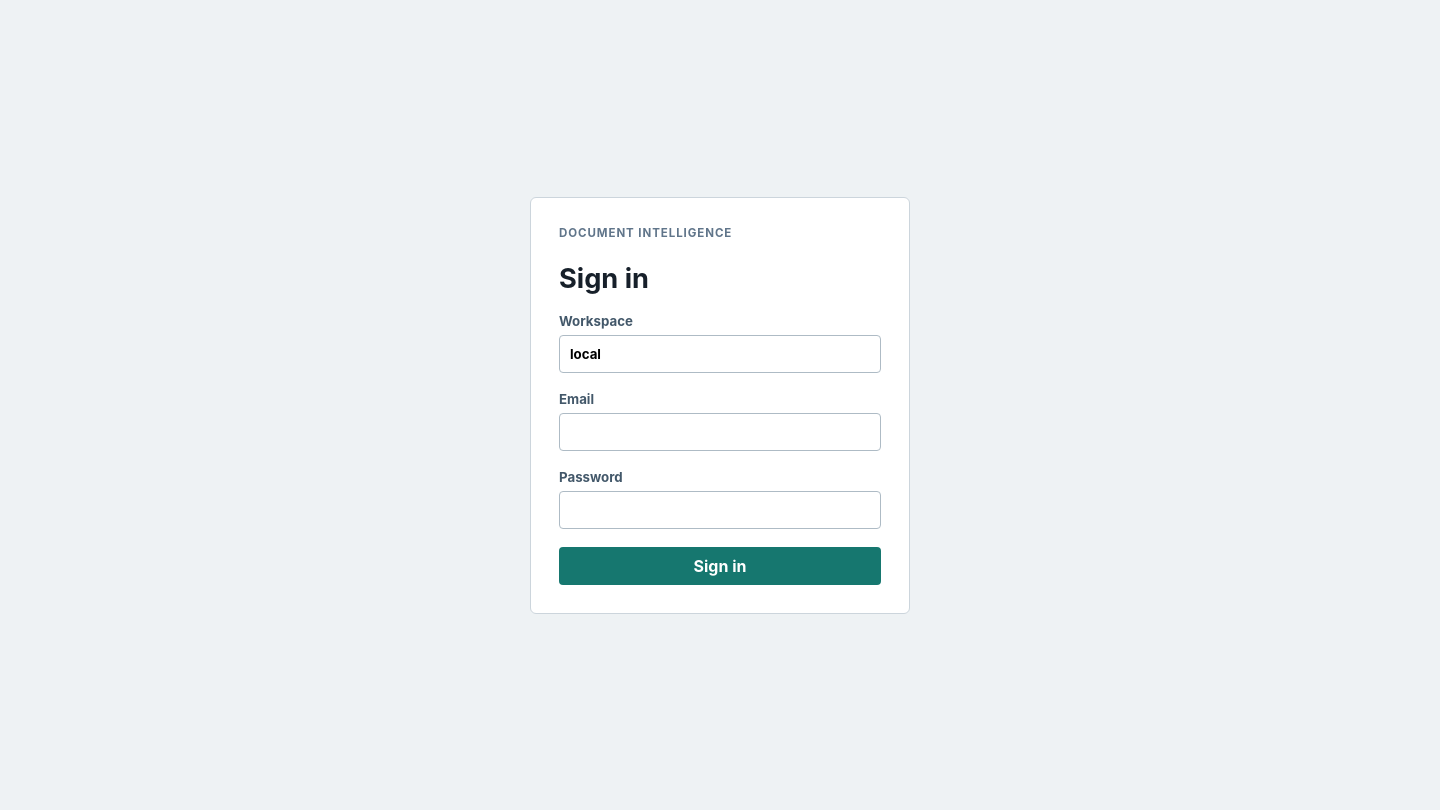
Scenario: authentication and role controls › signs in and sends the user to the tenant workspace
Replace the text in the field labelled "Workspace" with "review": (720, 354) [559,334,881,372]
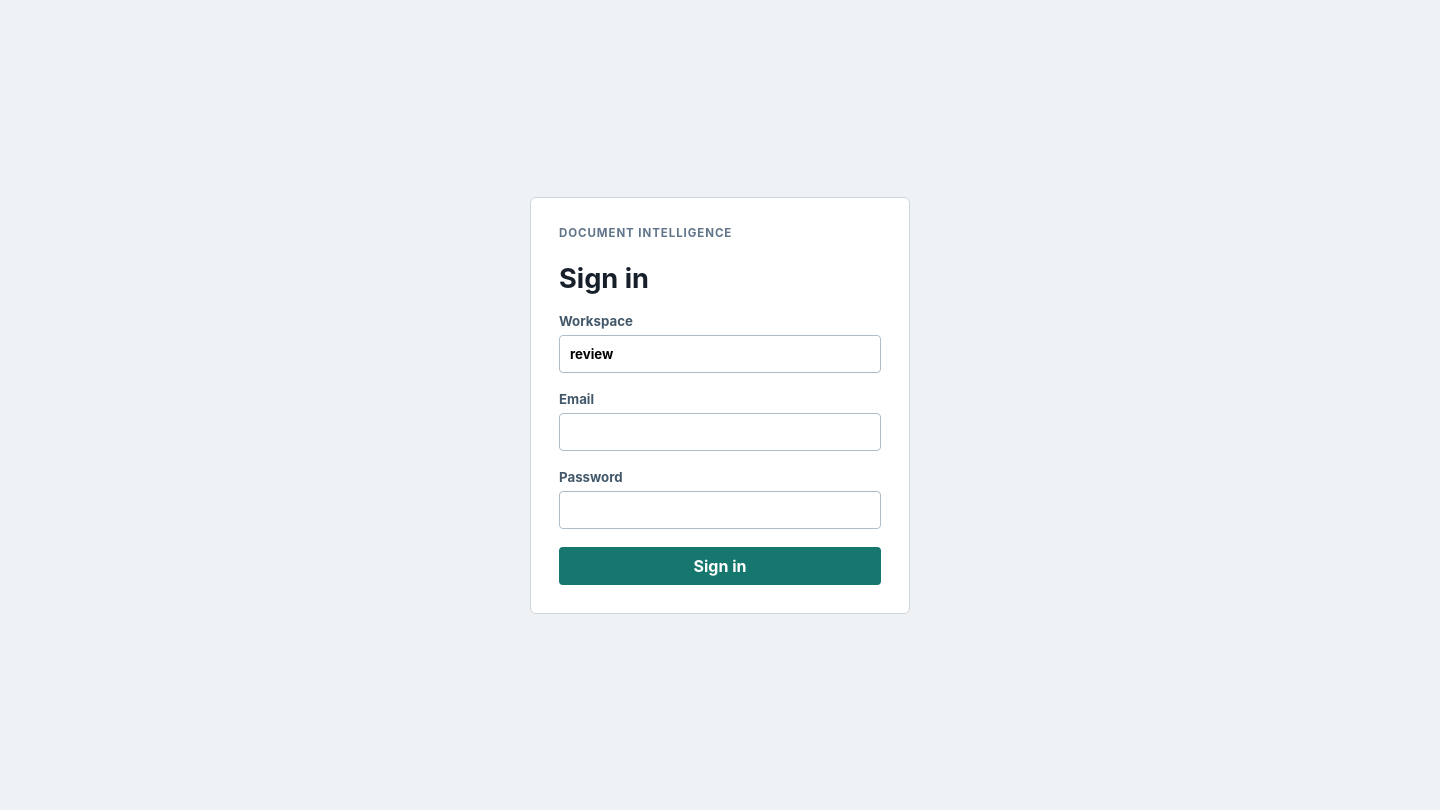
In the field labelled "Email": (720, 432) [559,412,881,450], type "reviewer@example.test"
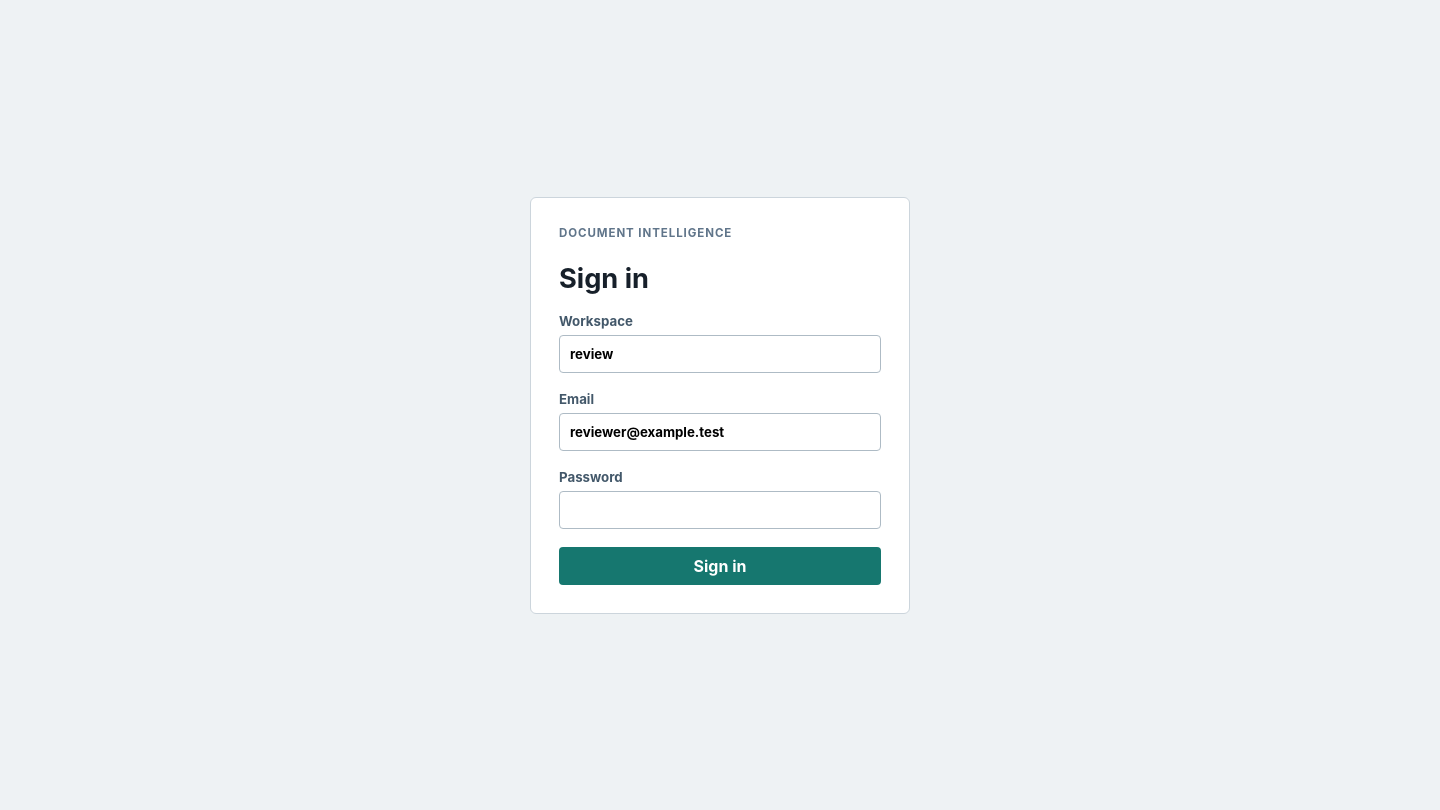
In the password field labelled "Password": (720, 510) [559,490,881,528], type "secret-password"
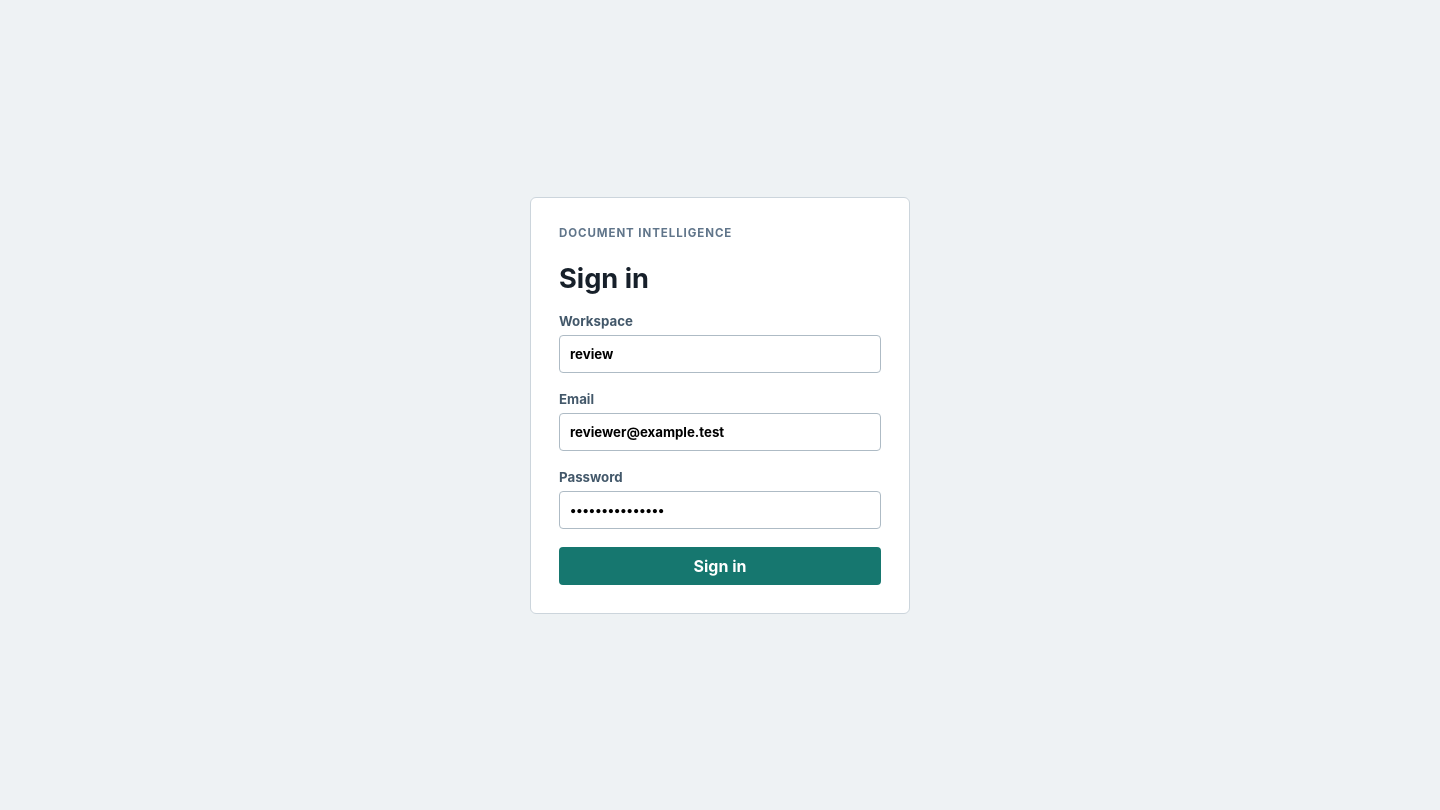
Click the button "Sign in": (720, 566) [559,546,881,584]
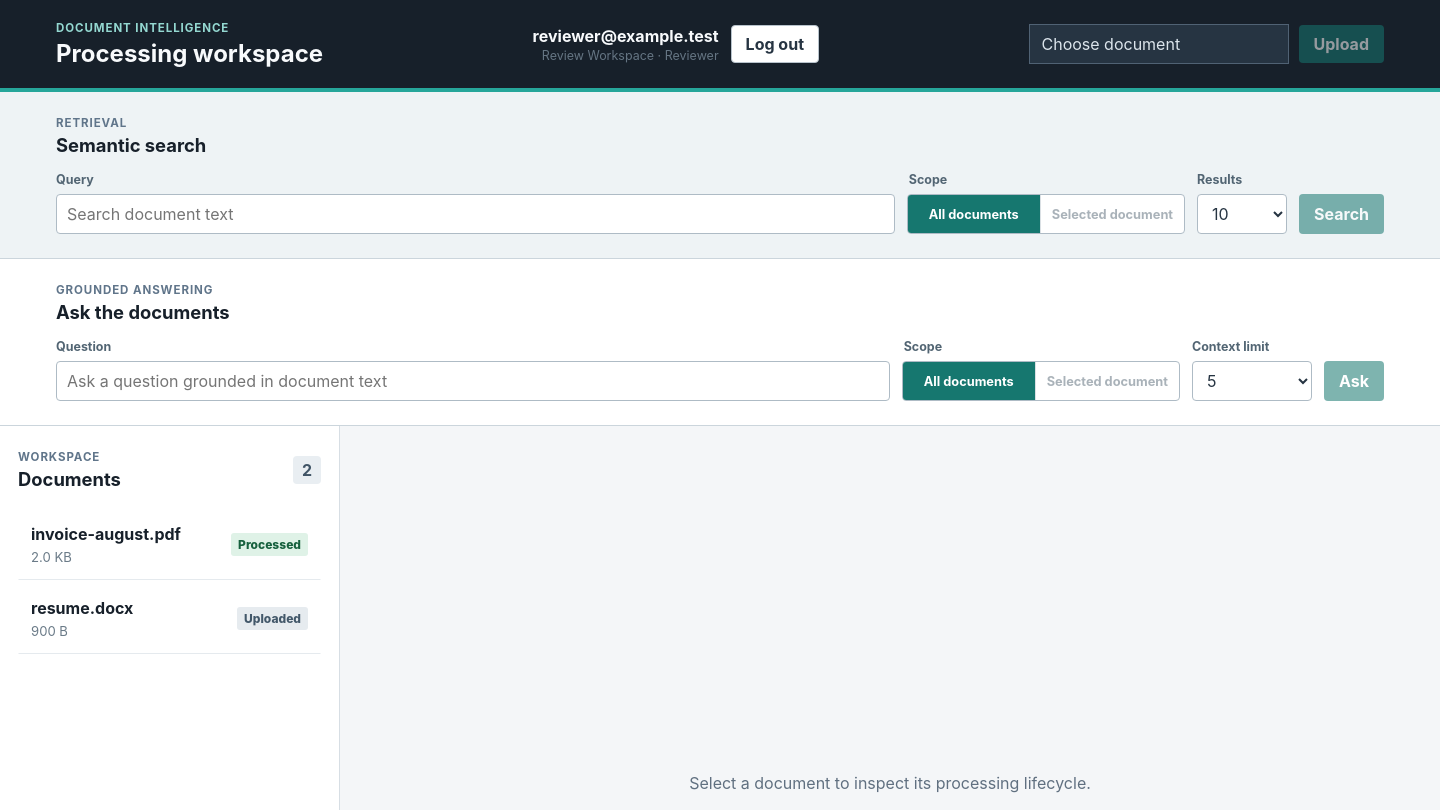
Expected: the text "reviewer@example.test" is shown, [533,26,719,46]
